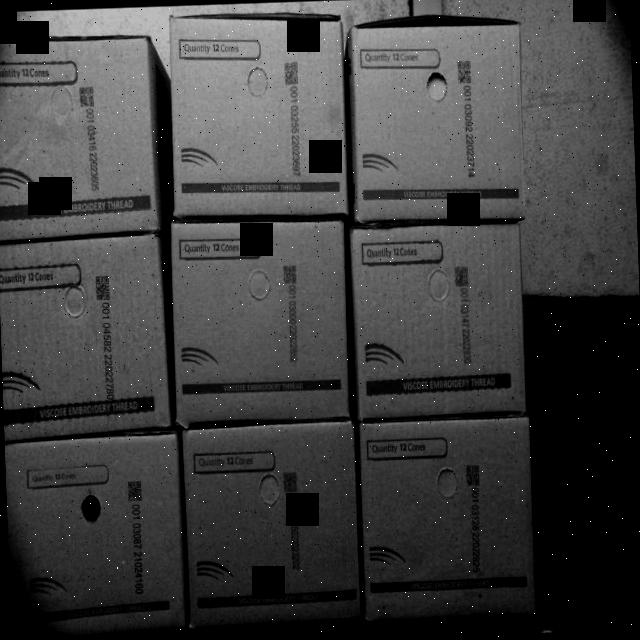box: (168, 215, 352, 427), (168, 9, 346, 220), (359, 418, 537, 626), (182, 419, 362, 624), (350, 11, 526, 219), (3, 433, 185, 630), (352, 225, 530, 415), (0, 238, 168, 432), (0, 35, 160, 234)
